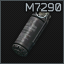Model 7290 Flash Bang grenade: (0, 0, 64, 64)
